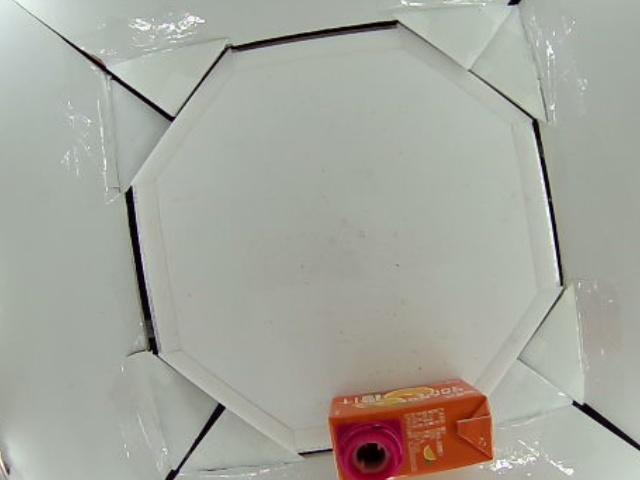Bottle: (328, 377, 500, 480)
